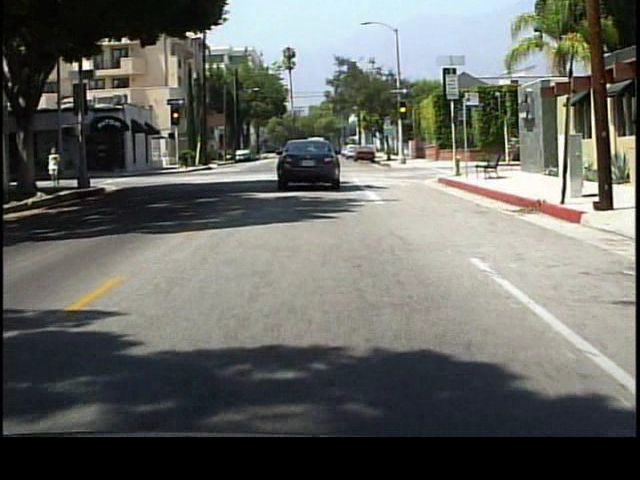person: (50, 145, 69, 190)
